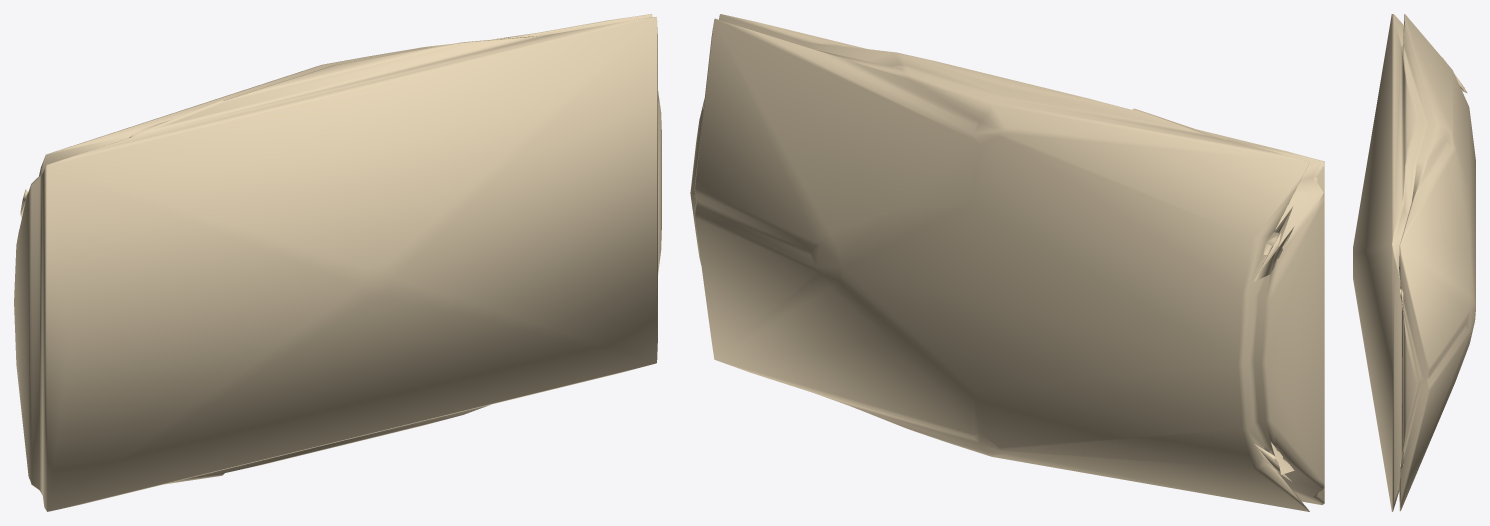
File: skiff_heavy_tidemark.glb
The picture shows the model from 3 angles, left to right: view 1: azimuth 30°, elevation 25°; view 2: azimuth 150°, elevation 25°; view 3: azimuth 270°, elevation 25°; orthographic projection. The views are drawn at different scales.
Visible parts, largest first — view 1: skiff_heavy_tidemark; view 2: skiff_heavy_tidemark; view 3: skiff_heavy_tidemark.
Boxes of the visible parts, bbox=[...] form: skiff_heavy_tidemark: bbox=[14, 14, 661, 511]; skiff_heavy_tidemark: bbox=[690, 14, 1324, 511]; skiff_heavy_tidemark: bbox=[1353, 14, 1475, 511].
Bounding box in the file's own units: 7.94 × 4.5 × 1.72.
